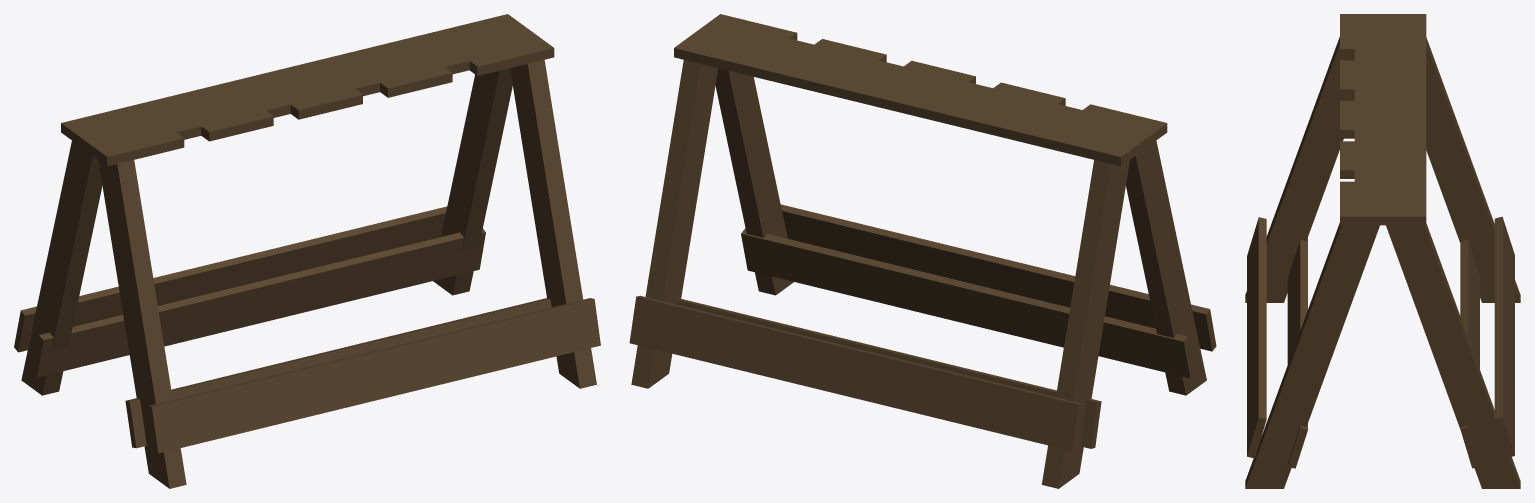
The model's file is WorkingToolsStand_1.fbx.
3 views of the same model, side by side, from view 1: azimuth 30°, elevation 25°; view 2: azimuth 150°, elevation 25°; view 3: azimuth 270°, elevation 25° (orthographic). The views are drawn at different scales.
Parts seen in each view (by area): view 1: WorkingToolsStand_1; view 2: WorkingToolsStand_1; view 3: WorkingToolsStand_1.
Boxes of the visible parts, x1,y1,x2,y2 form: WorkingToolsStand_1: (14, 14, 600, 488); WorkingToolsStand_1: (629, 14, 1216, 488); WorkingToolsStand_1: (1245, 14, 1520, 488).
Size of the model in its own units: 234 by 149 by 134.
